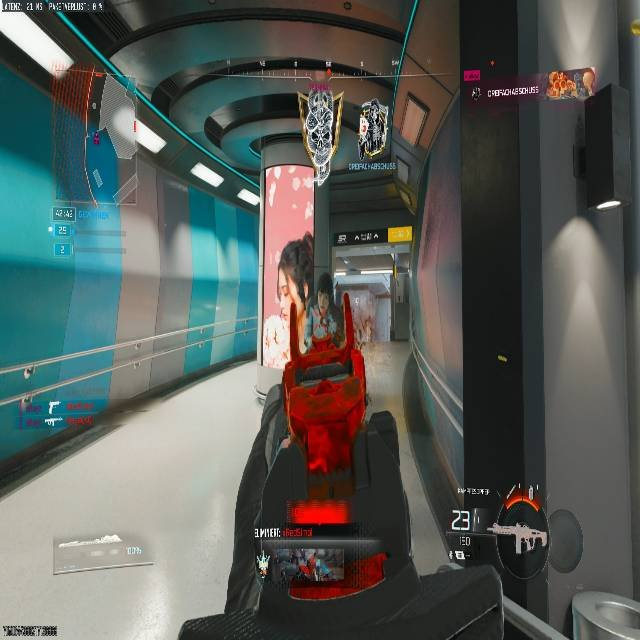player: (582, 68, 595, 96)
